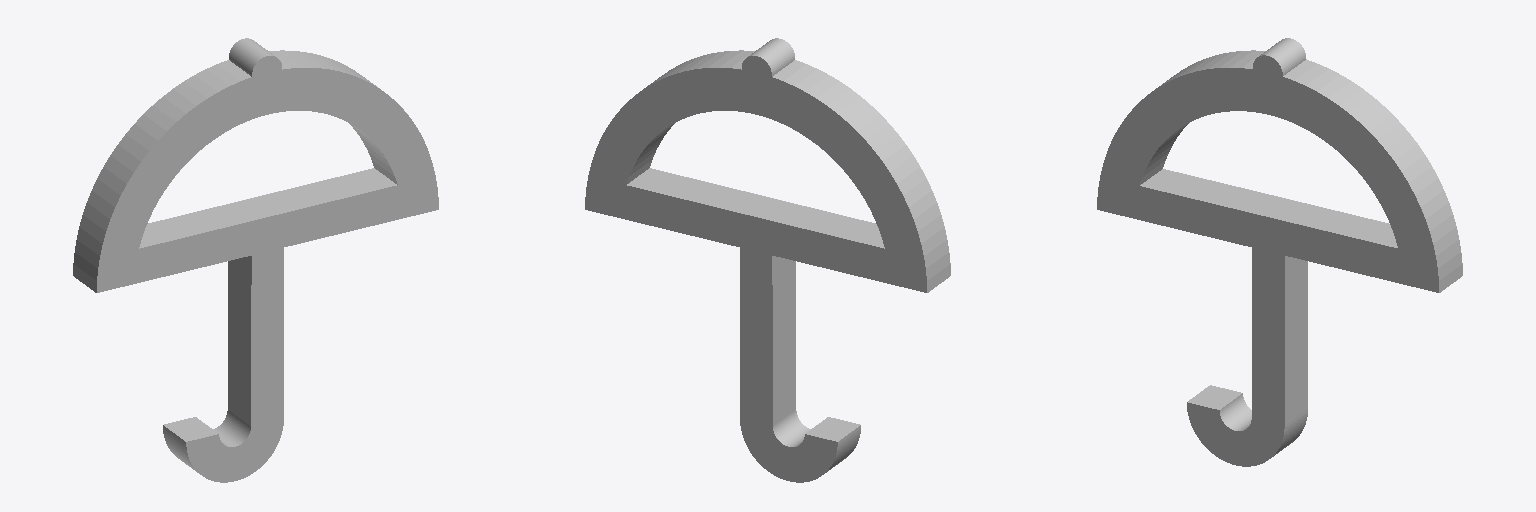
Rendered from umbrella.obj.
3 views of the same model, side by side, from view 1: azimuth 30°, elevation 25°; view 2: azimuth 150°, elevation 25°; view 3: azimuth 330°, elevation 25° (orthographic).
Size of the model in its own units: 0.021 by 0.0245 by 0.0025.